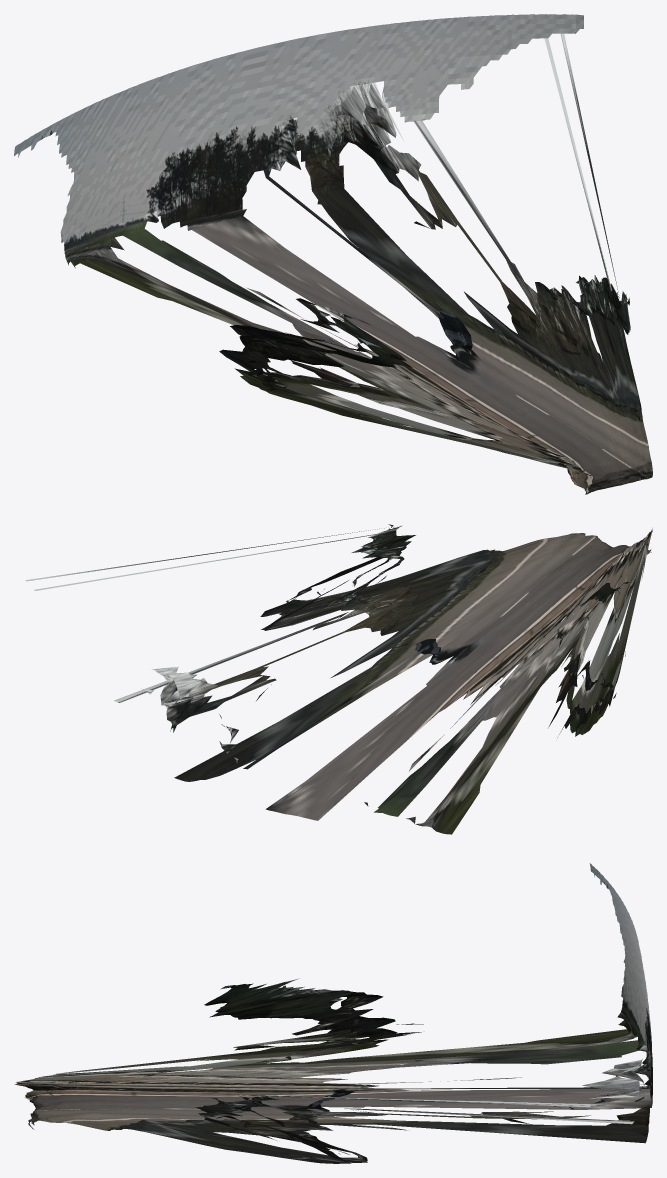
The picture shows the model from 3 angles, top to bottom: view 1: azimuth 30°, elevation 25°; view 2: azimuth 150°, elevation 25°; view 3: azimuth 270°, elevation 25°; orthographic projection. The views are drawn at different scales.
Visible parts, largest first — view 1: defaultobject; view 2: defaultobject; view 3: defaultobject.
Part boxes in pixels (x1,y1,x2,y2): defaultobject: [14, 14, 652, 494]; defaultobject: [25, 524, 652, 834]; defaultobject: [14, 863, 652, 1163].
Size of the model in its own units: 39.14 by 11.76 by 45.37.
1 material, 1 textured.
